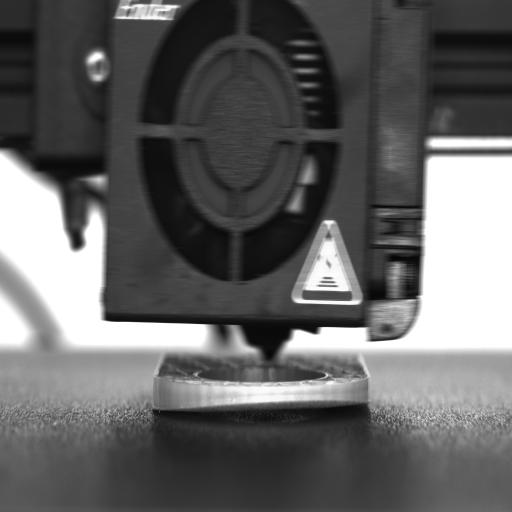warp: (159, 391, 366, 421)
